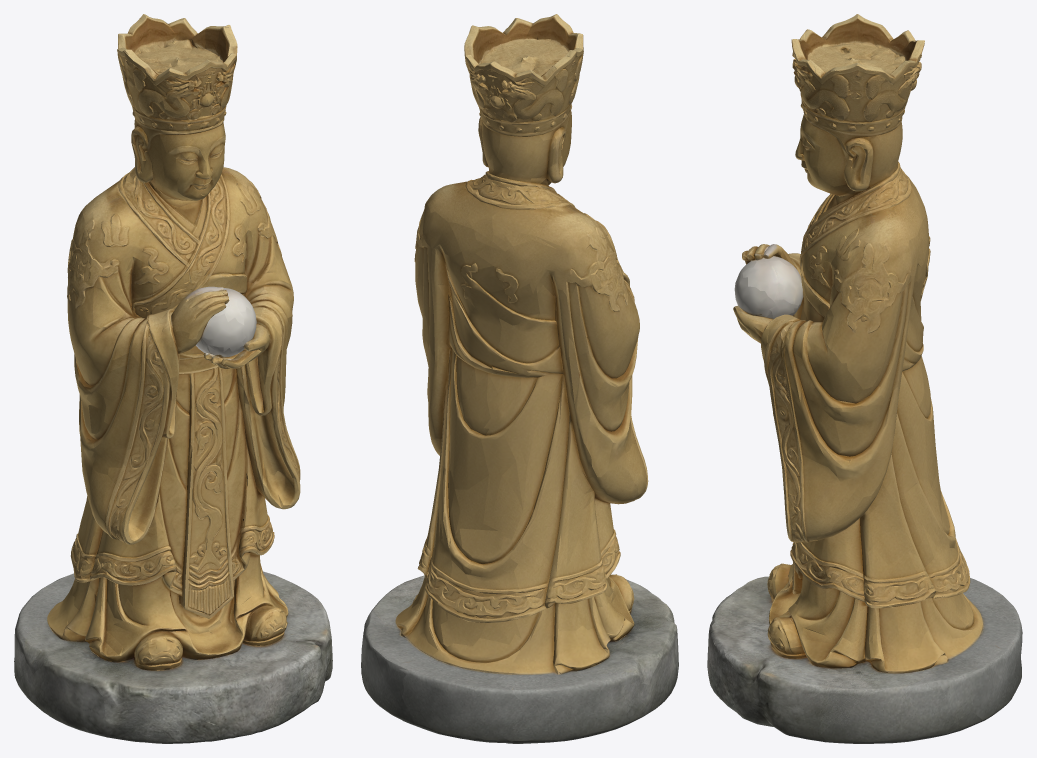
Rendered from Meshy_AI_Korean_temple_outdoor_1117015842_texture.glb.
The picture shows the model from 3 angles, left to right: view 1: azimuth 30°, elevation 25°; view 2: azimuth 150°, elevation 25°; view 3: azimuth 270°, elevation 25°; orthographic projection.
Parts seen in each view (by area): view 1: output_unwrapped; view 2: output_unwrapped; view 3: output_unwrapped.
Boxes of the visible parts, left/top/right/bottom form: output_unwrapped: left=14, top=14, right=332, bottom=743; output_unwrapped: left=361, top=14, right=678, bottom=743; output_unwrapped: left=707, top=14, right=1022, bottom=743.
Size of the model in its own units: 0.8438 by 1.9 by 0.8478.
Materials: 1 (1 with a texture image).
